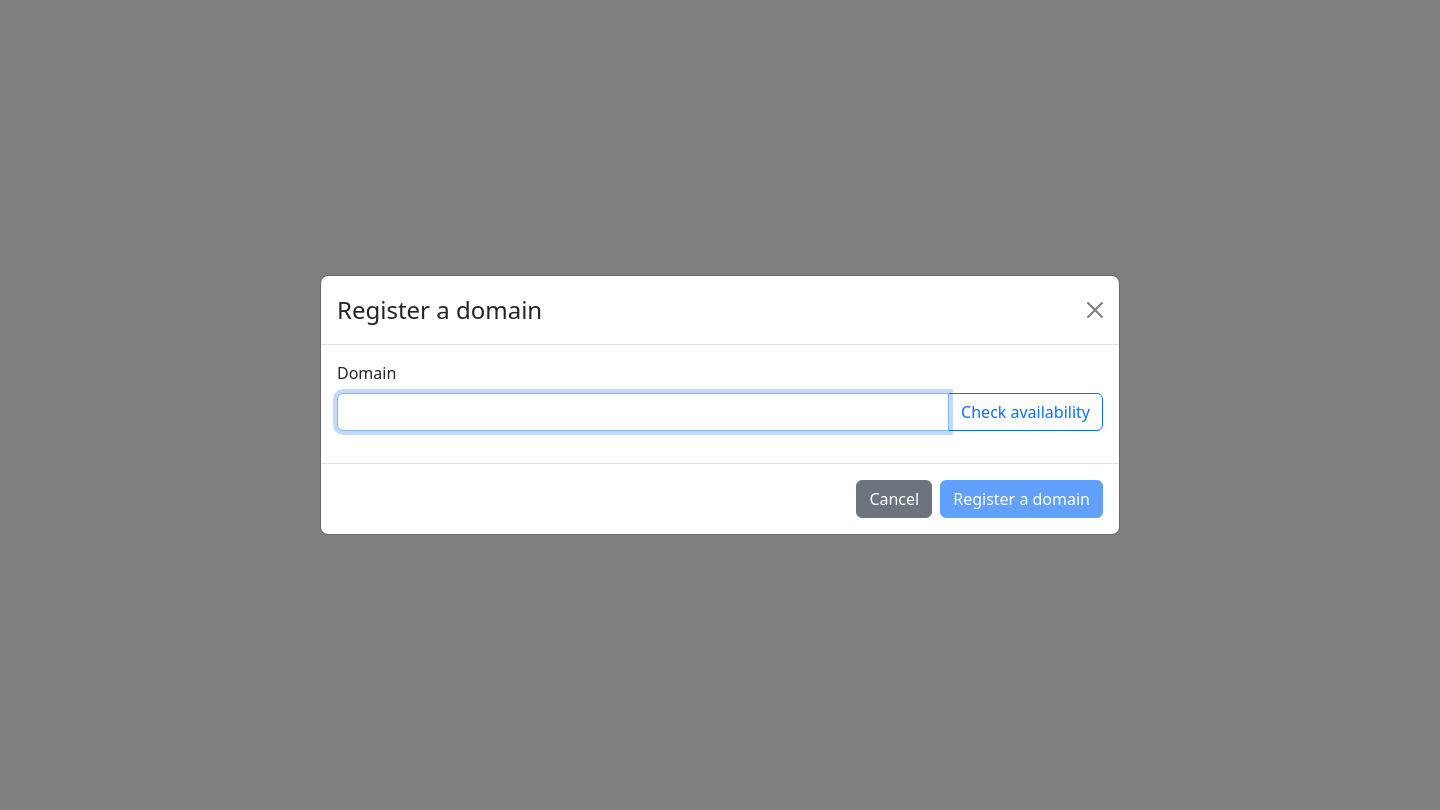
Test: RegisterDialog › checks the name before asking Gandi
Expected: the button "Register a domain" is disabled, [940,480,1103,518]
Type "nodot" into the field labelled "Domain" at point(643, 412), box [337,393,949,431]
Then press Enter
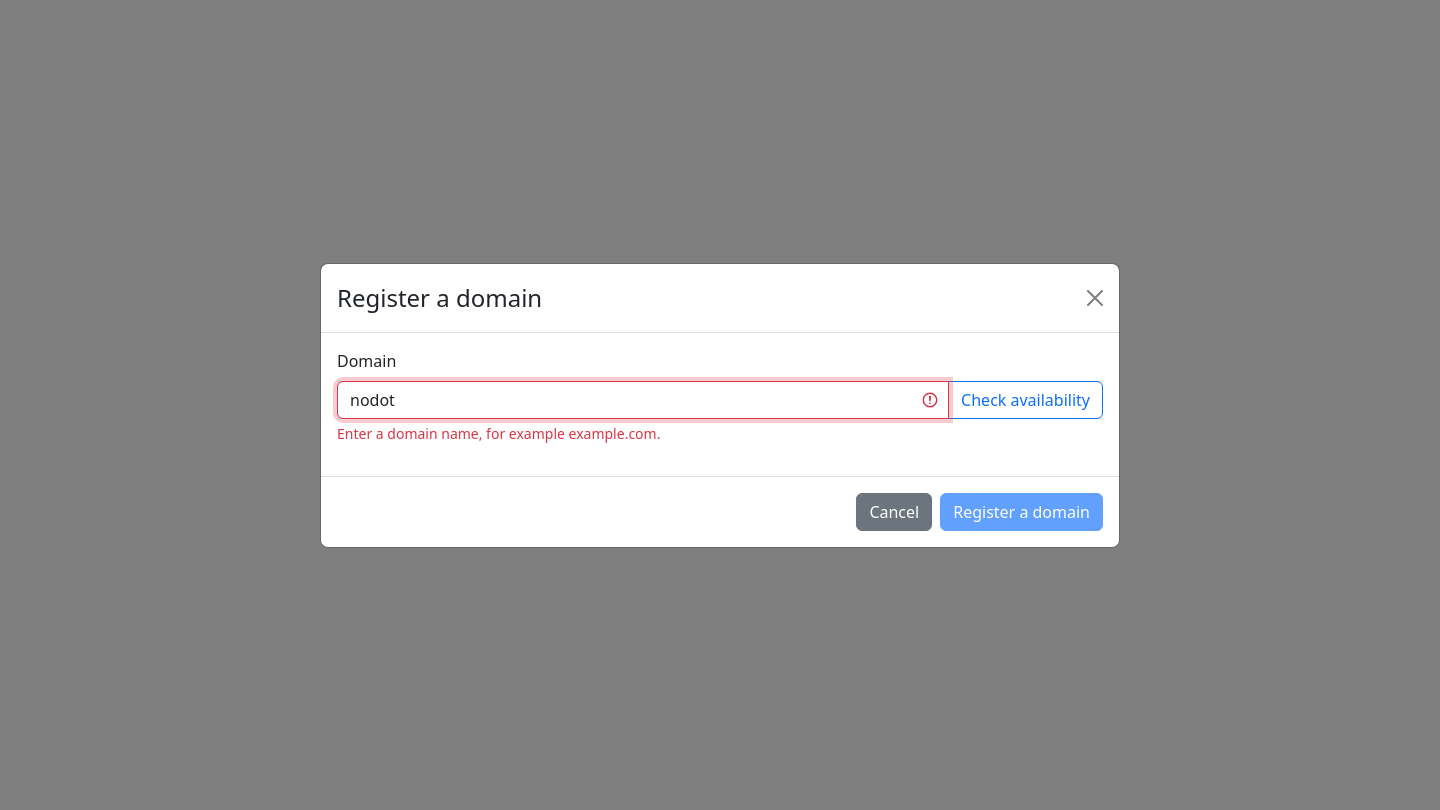
Result: the text "Enter a domain name, for example example.com." is shown at [337,424,660,442]
